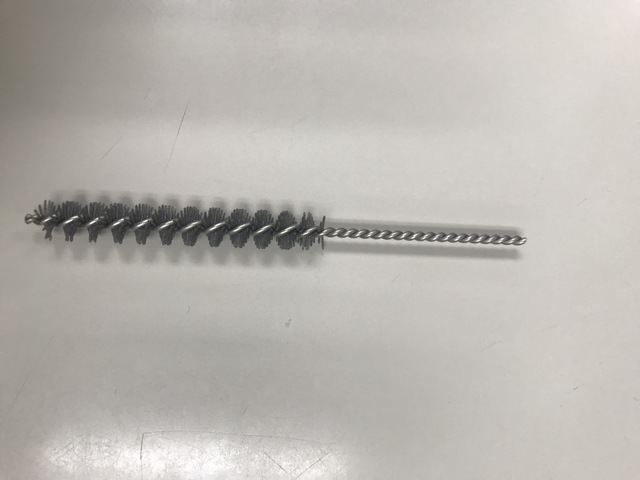Twist Brush-A: (20, 194, 527, 255)
